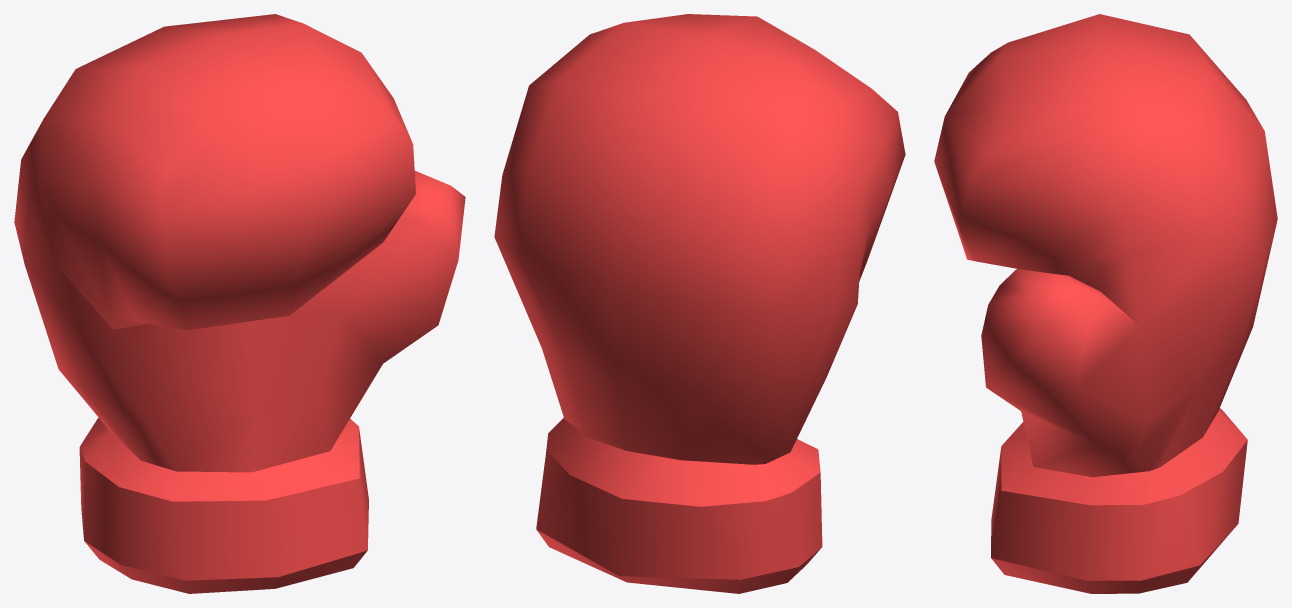
Rendered from BoxingGlove.fbx.
3 views of the same model, side by side, from view 1: azimuth 30°, elevation 25°; view 2: azimuth 150°, elevation 25°; view 3: azimuth 270°, elevation 25° (orthographic). The views are drawn at different scales.
Parts seen in each view (by area): view 1: BoxingGlove; view 2: BoxingGlove; view 3: BoxingGlove.
Part boxes in pixels (x1=…): BoxingGlove: x1=14, y1=14, x2=465, y2=593; BoxingGlove: x1=494, y1=14, x2=905, y2=593; BoxingGlove: x1=934, y1=14, x2=1277, y2=593.
Bounding box in the file's own units: 33.77 × 42.96 × 26.94.
